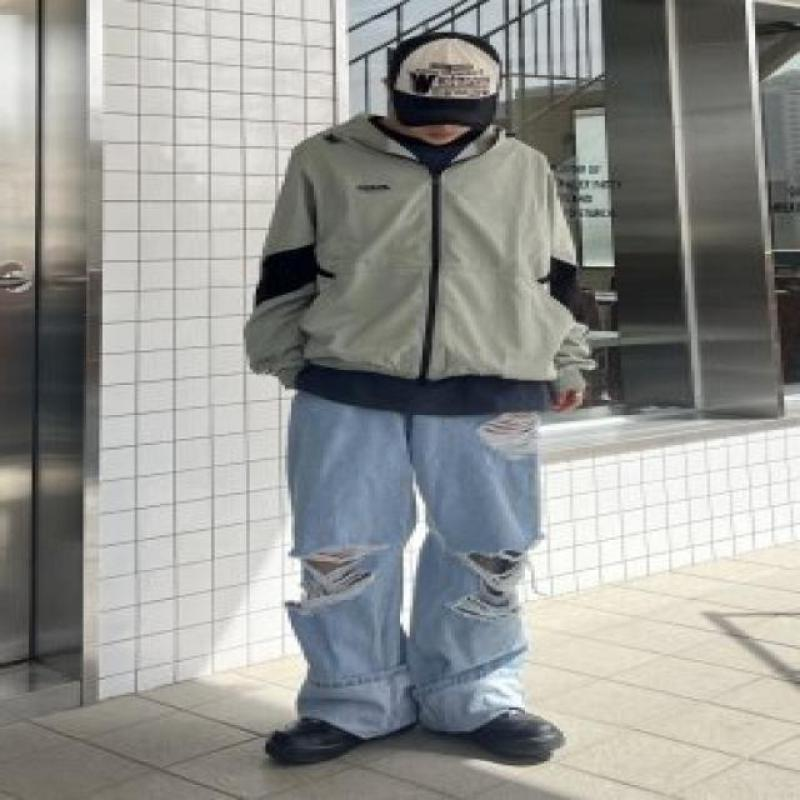jacket: (244, 111, 598, 416)
trousers: (283, 391, 546, 743)
